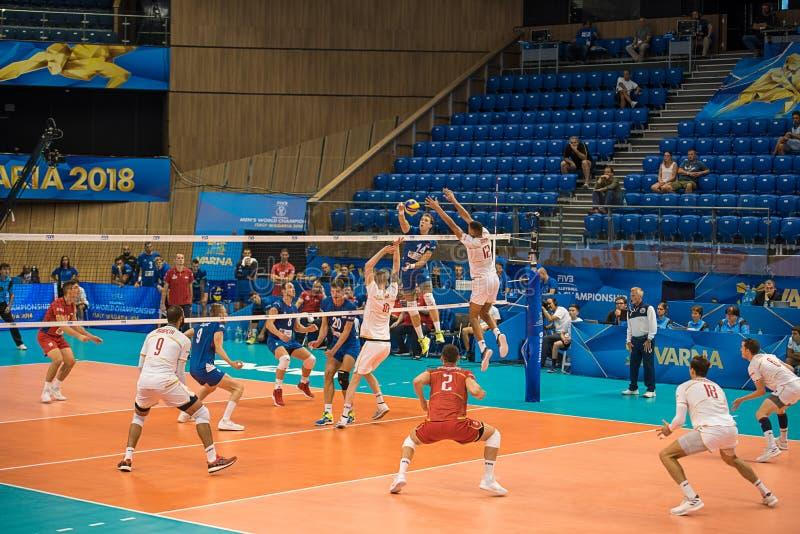ballon_volley: (403, 198, 420, 216)
